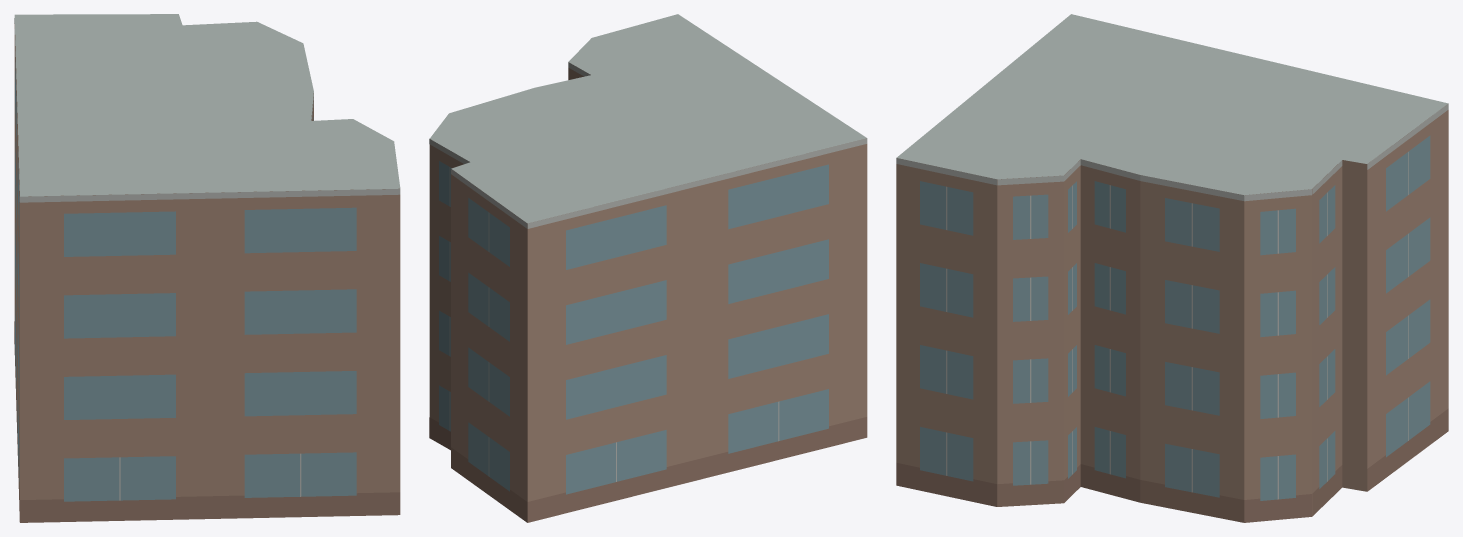
Rendered from survey-upis-32636354.glb.
The picture shows the model from 3 angles, left to right: view 1: azimuth 30°, elevation 25°; view 2: azimuth 150°, elevation 25°; view 3: azimuth 270°, elevation 25°; orthographic projection. The views are drawn at different scales.
Visible parts, largest first — view 1: survey-upis-32636354.tmp; view 2: survey-upis-32636354.tmp; view 3: survey-upis-32636354.tmp.
Boxes of the visible parts, x1,y1,x2,y2 form: survey-upis-32636354.tmp: (14,14,400,522); survey-upis-32636354.tmp: (429,14,867,522); survey-upis-32636354.tmp: (896,14,1448,522).
Bounding box in the file's own units: 15.66 × 13.2 × 20.17.
